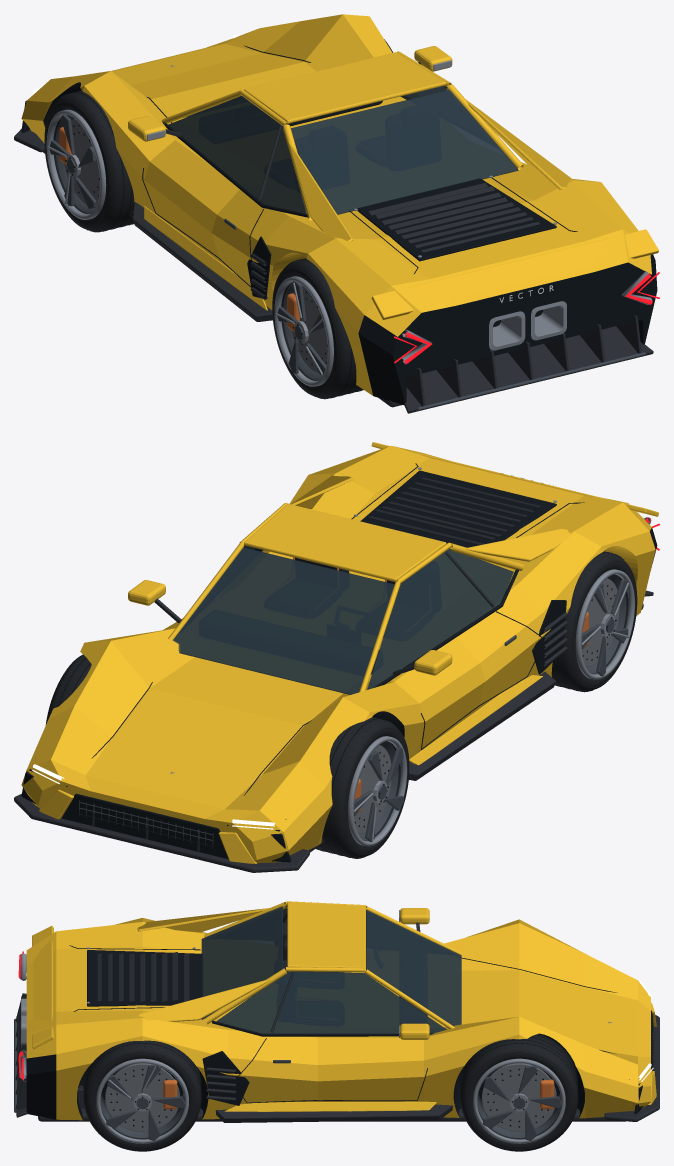
The model's file is Vector_V01.glb.
3 renders of one model, top to bottom at view 1: azimuth 30°, elevation 25°; view 2: azimuth 150°, elevation 25°; view 3: azimuth 270°, elevation 25°, orthographic. The views are drawn at different scales.
Parts seen in each view (by area): view 1: Monocoque faceted body.001, Rear screen.001, Side cabin glass -1.001, Floating angular roof.001, Integrated rear deck lip.001, Rear diffuser ramp.001, Rear engine hatch.001, Front tyre.002, Rear tyre.002, Blade sill -1.001, Rear flying sail -1.001, Sill paint insert -1.001 (+18 smaller); view 2: Monocoque faceted body.001, Panoramic windscreen.001, Side cabin glass -1.001, Floating angular roof.001, Rear engine hatch.001, Front tyre.002, Main front grille.001, Rear tyre.002, Front carbon splitter.001, Blade sill -1.001, Rear flying sail -1.001, Sill paint insert -1.001 (+15 smaller); view 3: Monocoque faceted body.001, Side cabin glass 1.001, Panoramic windscreen.001, Rear screen.001, Front tyre.003, Floating angular roof.001, Rear tyre.003, Rear engine hatch.001, Rear ceramic brake.003, Front ceramic brake.003, Blade sill 1.001, Integrated rear deck lip.001 (+19 smaller).
Boxes of the visible parts, bbox=[...] form: Monocoque faceted body.001: bbox=[21, 14, 657, 404]; Rear screen.001: bbox=[291, 89, 518, 214]; Side cabin glass -1.001: bbox=[168, 96, 306, 213]; Floating angular roof.001: bbox=[244, 52, 446, 123]; Integrated rear deck lip.001: bbox=[371, 229, 658, 319]; Rear diffuser ramp.001: bbox=[404, 326, 653, 413]; Rear engine hatch.001: bbox=[357, 178, 556, 261]; Front tyre.002: bbox=[45, 90, 134, 232]; Rear tyre.002: bbox=[273, 258, 363, 399]; Blade sill -1.001: bbox=[133, 202, 272, 321]; Rear flying sail -1.001: bbox=[288, 141, 353, 241]; Sill paint insert -1.001: bbox=[144, 206, 267, 310]; Monocoque faceted body.001: bbox=[21, 445, 657, 863]; Panoramic windscreen.001: bbox=[172, 547, 394, 694]; Side cabin glass -1.001: bbox=[367, 548, 513, 689]; Floating angular roof.001: bbox=[244, 504, 446, 581]; Rear engine hatch.001: bbox=[360, 470, 556, 547]; Front tyre.002: bbox=[315, 717, 408, 858]; Main front grille.001: bbox=[61, 793, 228, 859]; Rear tyre.002: bbox=[551, 551, 636, 692]; Front carbon splitter.001: bbox=[14, 793, 309, 872]; Blade sill -1.001: bbox=[409, 671, 555, 780]; Rear flying sail -1.001: bbox=[465, 529, 572, 561]; Sill paint insert -1.001: bbox=[409, 675, 542, 765]; Monocoque faceted body.001: bbox=[26, 918, 650, 1120]; Side cabin glass 1.001: bbox=[216, 971, 446, 1033]; Panoramic windscreen.001: bbox=[366, 910, 461, 1026]; Rear screen.001: bbox=[201, 906, 282, 1019]; Front tyre.003: bbox=[460, 1034, 577, 1151]; Floating angular roof.001: bbox=[287, 902, 365, 967]; Rear tyre.003: bbox=[84, 1040, 201, 1151]; Rear engine hatch.001: bbox=[87, 950, 202, 1006]; Rear ceramic brake.003: bbox=[105, 1063, 179, 1131]; Front ceramic brake.003: bbox=[482, 1063, 556, 1131]; Blade sill 1.001: bbox=[215, 1104, 455, 1122]; Integrated rear deck lip.001: bbox=[32, 926, 53, 1048].
Bounding box in the file's own units: 2.33 × 1.37 × 5.01.
